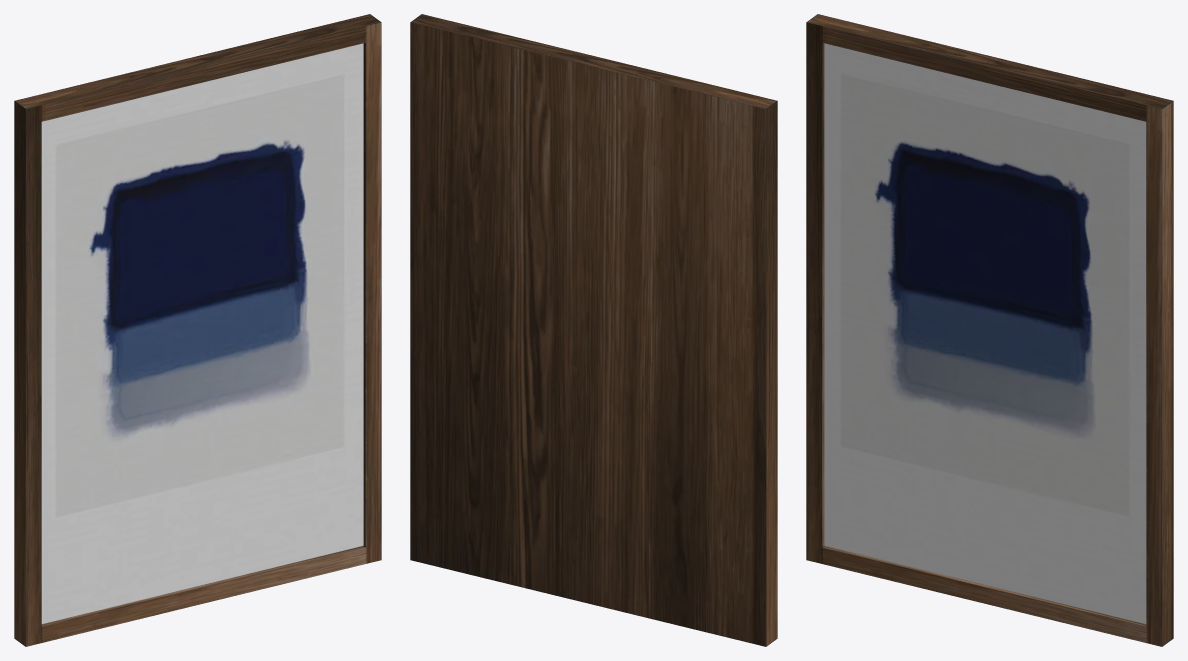
Rendered from shades_of_blue.glb.
The picture shows the model from 3 angles, left to right: view 1: azimuth 30°, elevation 25°; view 2: azimuth 150°, elevation 25°; view 3: azimuth 330°, elevation 25°; orthographic projection.
Visible parts, largest first — view 1: Plano.001_Materiais.001_0; view 2: Plano.001_Materiais.001_0; view 3: Plano.001_Materiais.001_0.
Part boxes in pixels (left/top/right/bottom): Plano.001_Materiais.001_0: left=14, top=14, right=381, bottom=646; Plano.001_Materiais.001_0: left=410, top=14, right=777, bottom=646; Plano.001_Materiais.001_0: left=806, top=14, right=1173, bottom=646.
Size of the model in its own units: 0.502 by 0.7252 by 0.0279.
1 material, 1 textured.
